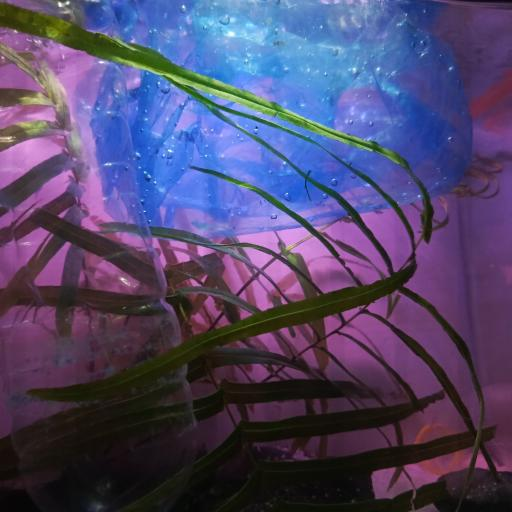bottle_cap: (415, 424, 464, 472)
plastic_bag: (87, 0, 470, 232)
plastic_bottle: (0, 45, 200, 512)
